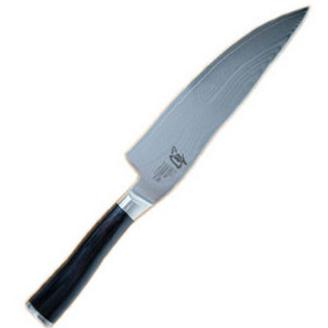knife: (25, 5, 312, 328)
